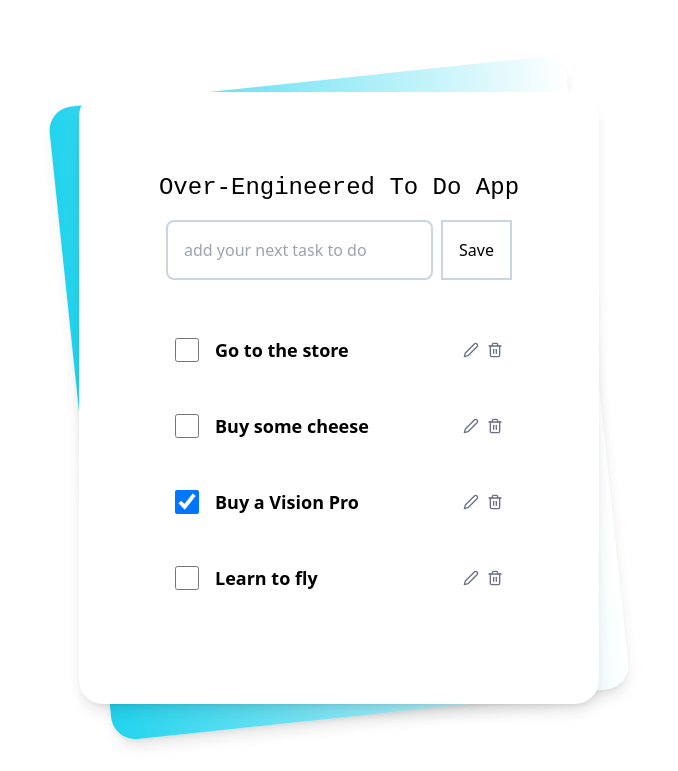
Task › when edit is clicked, makes title editable, and adds buttons for editing
Click the button named "Edit Go to the store" at (471, 350), box x1=463 y1=342 x2=479 y2=358
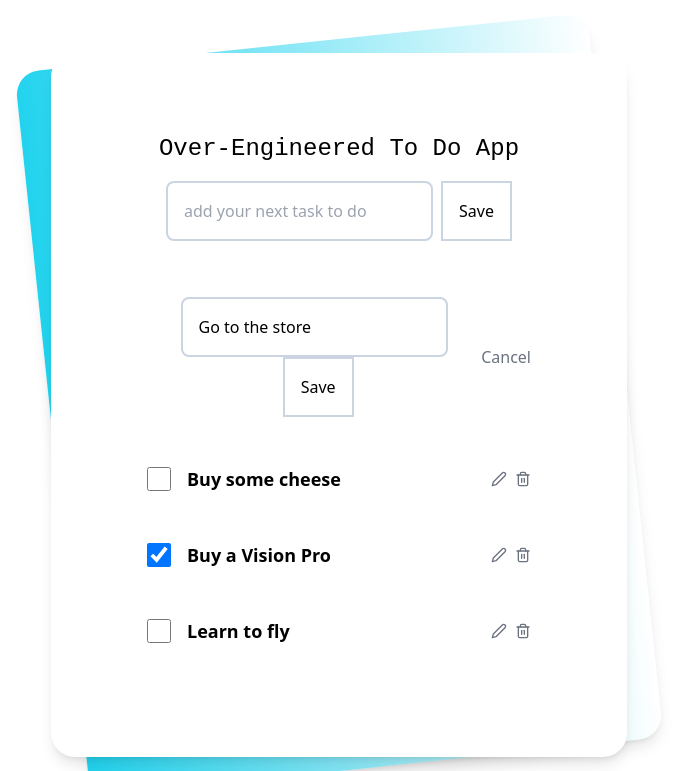
Expected: the 2nd button "Save" does not show "Edit", x1=283 y1=357 x2=354 y2=417
Now the 2nd button "Save" is shown, box x1=283 y1=357 x2=354 y2=417
Now the button "Cancel" is shown, box x1=481 y1=345 x2=531 y2=369
